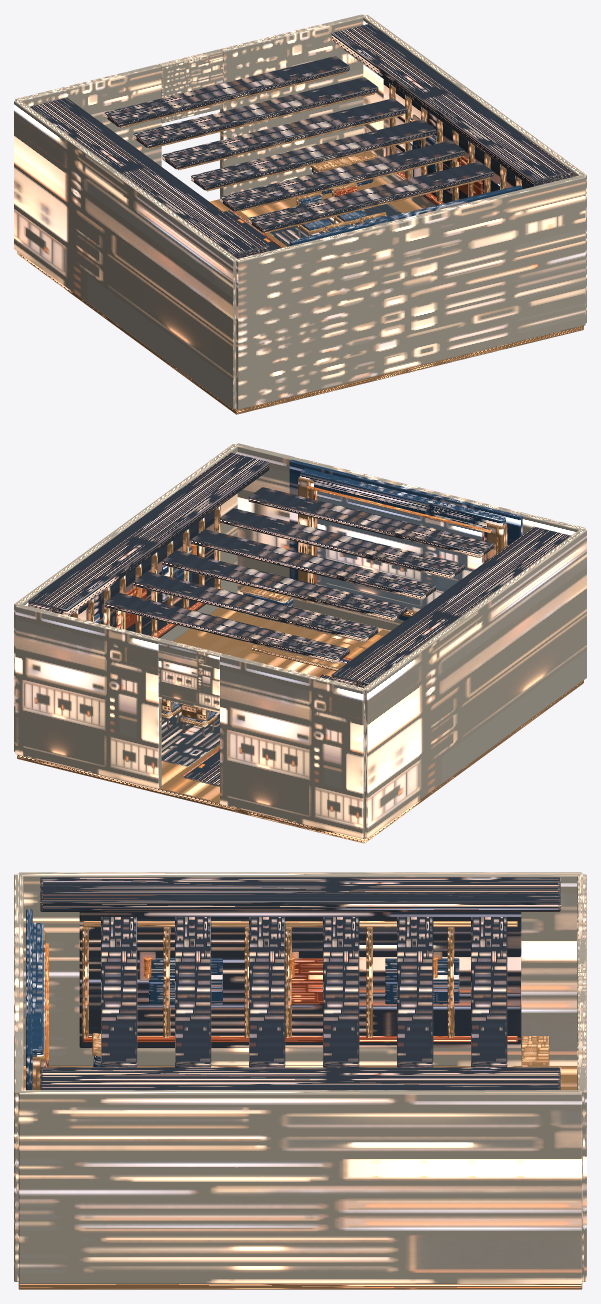
3 views of the same model, one above another, from view 1: azimuth 30°, elevation 25°; view 2: azimuth 150°, elevation 25°; view 3: azimuth 270°, elevation 25° (orthographic). The views are drawn at different scales.
Visible parts, largest first — view 1: architecture.wall.focal, architecture.wall.left, ceiling.perimeter.right, architecture.wall.rear-right, ceiling.perimeter.left, architecture.wall.rear-left, ceiling.raft.01, ceiling.raft.02, ceiling.raft.05, ceiling.raft.04, ceiling.raft.06, ceiling.raft.03 (+7 smaller); view 2: architecture.wall.left, architecture.wall.rear-right, architecture.wall.rear-left, ceiling.perimeter.right, ceiling.perimeter.left, architecture.floor, media.debug-main, architecture.wall.focal, ceiling.raft.05, ceiling.raft.06, ceiling.raft.01, ceiling.raft.02 (+14 smaller); view 3: architecture.wall.right, architecture.wall.left, acoustic.backing.left, ceiling.perimeter.left, ceiling.perimeter.right, ceiling.raft.05, ceiling.raft.06, ceiling.raft.01, ceiling.raft.02, ceiling.raft.03, ceiling.raft.04, architecture.floor (+17 smaller).
Boxes of the visible parts, x1,y1,x2,y2 form: architecture.wall.focal: (236,175,585,409); architecture.wall.left: (14,100,237,409); ceiling.perimeter.right: (331,23,572,186); architecture.wall.rear-right: (220,14,364,196); ceiling.perimeter.left: (30,97,269,258); architecture.wall.rear-left: (15,64,161,166); ceiling.raft.01: (248,161,493,232); ceiling.raft.02: (219,140,464,211); ceiling.raft.05: (133,77,378,147); ceiling.raft.04: (162,98,407,169); ceiling.raft.06: (104,56,349,126); ceiling.raft.03: (191,119,435,190); architecture.wall.left: (363,529,586,838); architecture.wall.rear-right: (15,604,161,788); architecture.wall.rear-left: (220,654,364,838); ceiling.perimeter.right: (28,452,269,615); ceiling.perimeter.left: (331,526,570,687); architecture.floor: (17,607,583,843); media.debug-main: (317,491,482,611); architecture.wall.focal: (236,443,585,631); ceiling.raft.05: (133,571,378,642); ceiling.raft.06: (104,592,349,663); ceiling.raft.01: (248,487,493,557); ceiling.raft.02: (219,508,464,579); architecture.wall.right: (18,1090,582,1283); architecture.wall.left: (18,872,582,1065); acoustic.backing.left: (79,912,521,1047); ceiling.perimeter.left: (40,877,560,911); ceiling.perimeter.right: (40,1067,560,1090); ceiling.raft.05: (397,917,433,1067); ceiling.raft.06: (471,917,507,1067); ceiling.raft.01: (101,917,137,1067); ceiling.raft.02: (175,917,211,1067); ceiling.raft.03: (249,917,285,1067); ceiling.raft.04: (323,917,359,1067); architecture.floor: (18,1066,582,1289).
Size of the model in its own units: 11 by 4.62 by 12.
10 materials, 2 textured.
